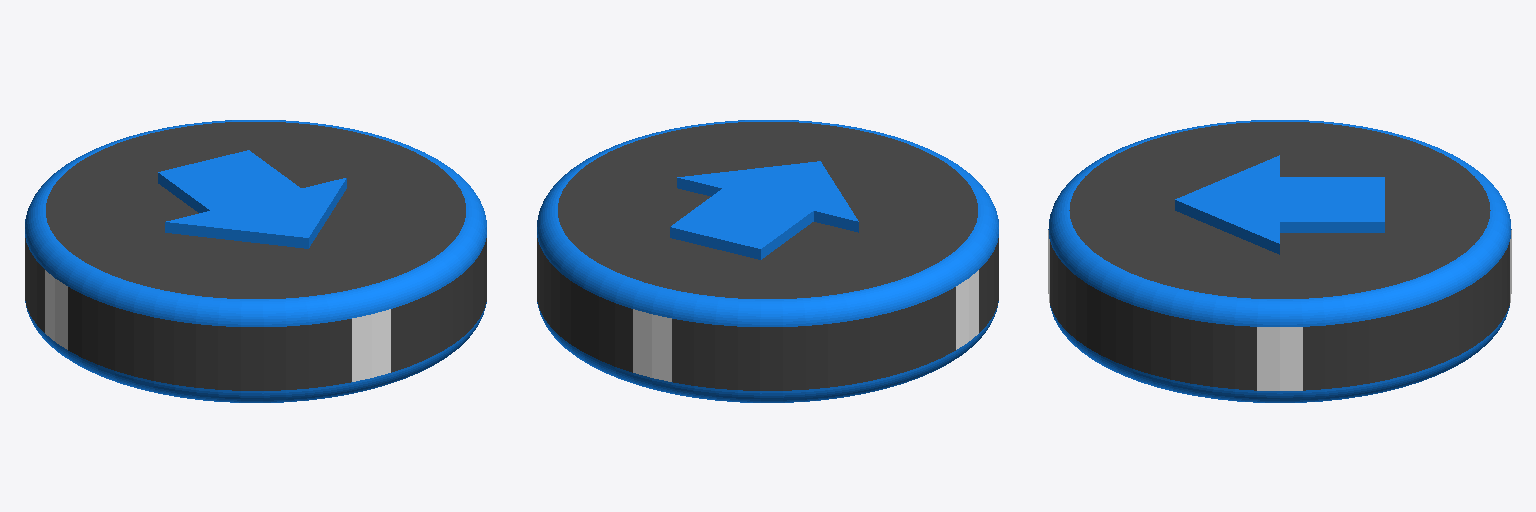
File: petit.obj
3 renders of one model, left to right at view 1: azimuth 30°, elevation 25°; view 2: azimuth 150°, elevation 25°; view 3: azimuth 270°, elevation 25°, orthographic.
Visible parts, largest first — view 1: Mesh1 Model; view 2: Mesh1 Model; view 3: Mesh1 Model.
Part boxes in pixels (left/top/right/bottom): Mesh1 Model: left=25, top=120, right=486, bottom=402; Mesh1 Model: left=537, top=120, right=998, bottom=402; Mesh1 Model: left=1048, top=120, right=1511, bottom=402.
Bounding box in the file's own units: 220 × 59.08 × 220.